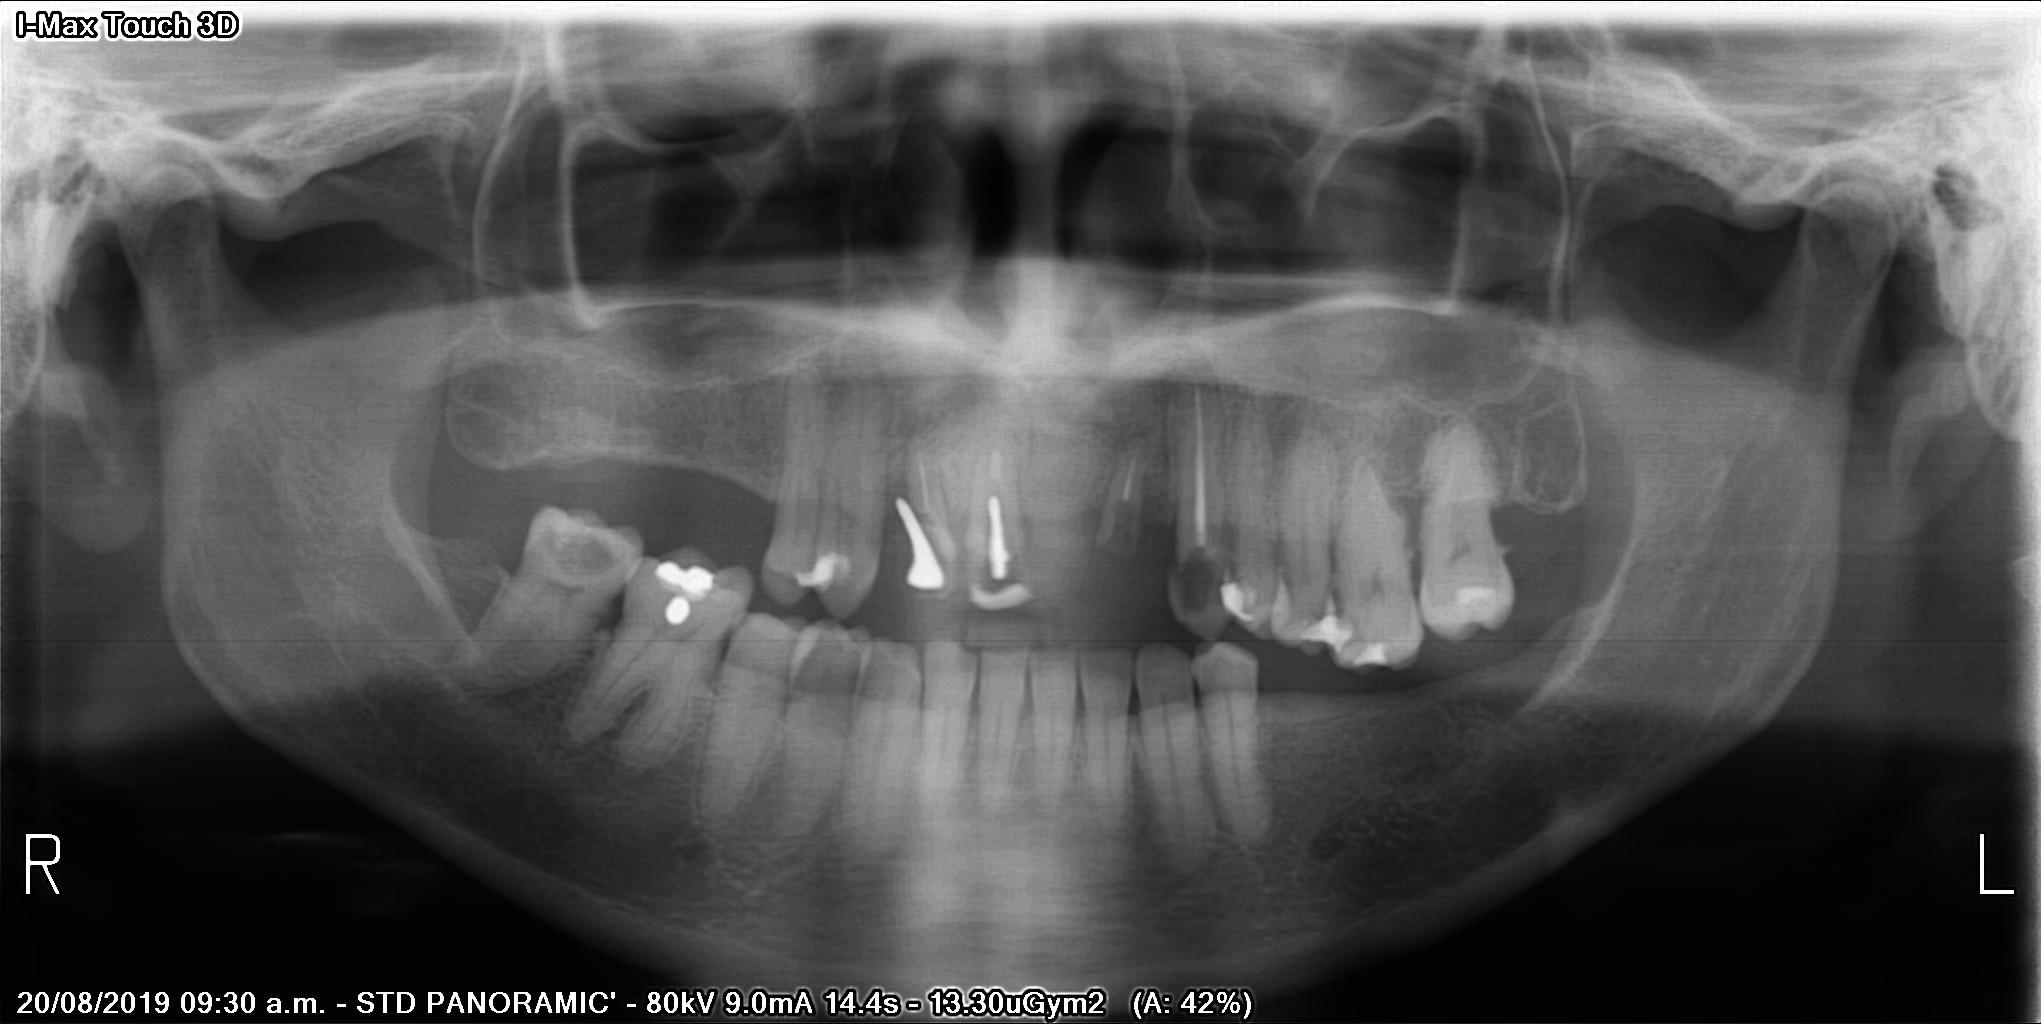Çürük: (653, 554, 718, 640), (901, 542, 962, 602), (797, 546, 854, 597), (1218, 581, 1267, 630), (1303, 609, 1352, 656), (1349, 635, 1400, 675), (1453, 579, 1510, 614), (964, 597, 1029, 620)
Çürük Bölgesi: (547, 517, 631, 584), (964, 572, 1033, 596)
